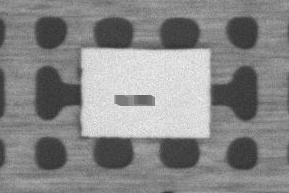DIE_INK: (112, 93, 155, 107)
